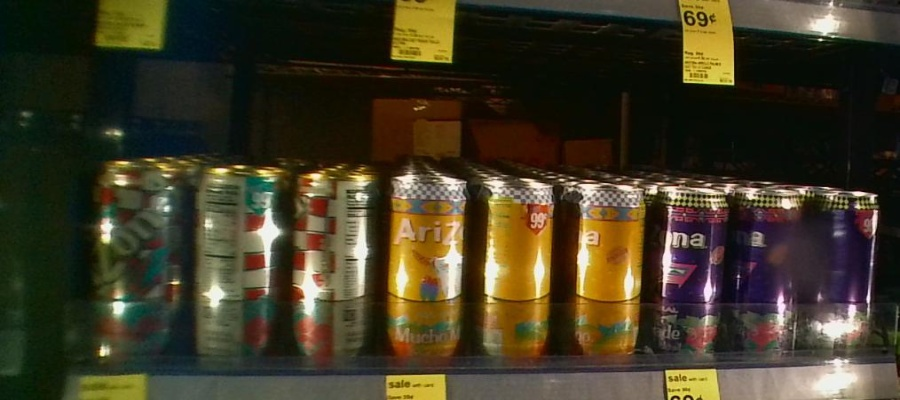bottle: (189, 155, 286, 298), (90, 155, 178, 303), (382, 165, 470, 307), (288, 162, 375, 304), (561, 170, 650, 306), (476, 167, 557, 307), (731, 169, 803, 310), (809, 169, 880, 307), (652, 179, 729, 306)
